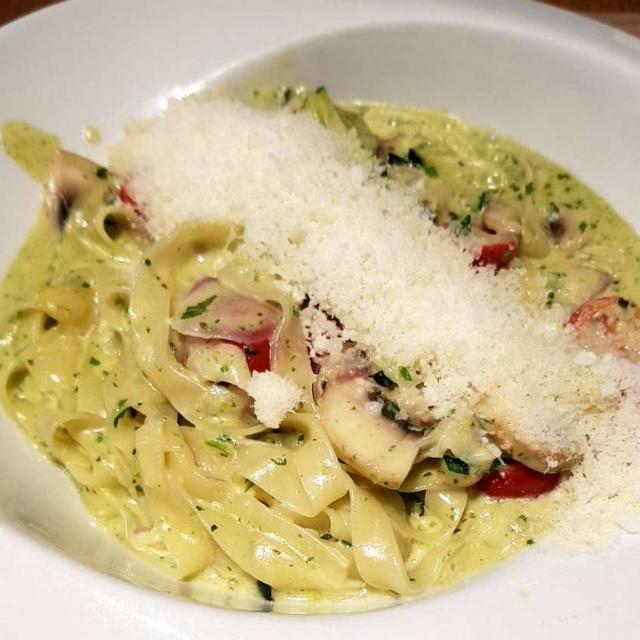parmesan: (122, 87, 634, 538)
pasta-linguini-parpadelle-tagliatelle: (10, 104, 614, 597)
tomato-raw: (198, 223, 561, 488)
